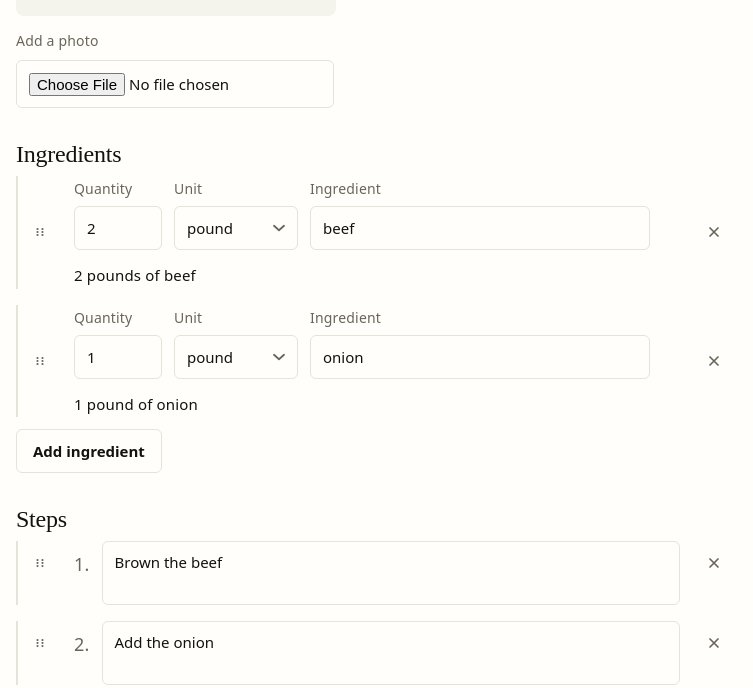
Test: RecipeForm rows › offers no way to empty the list
The image size is (753, 688).
(page scrolled)
Click the button named "Remove onion": coordinates (714, 361) [692,339,736,383]
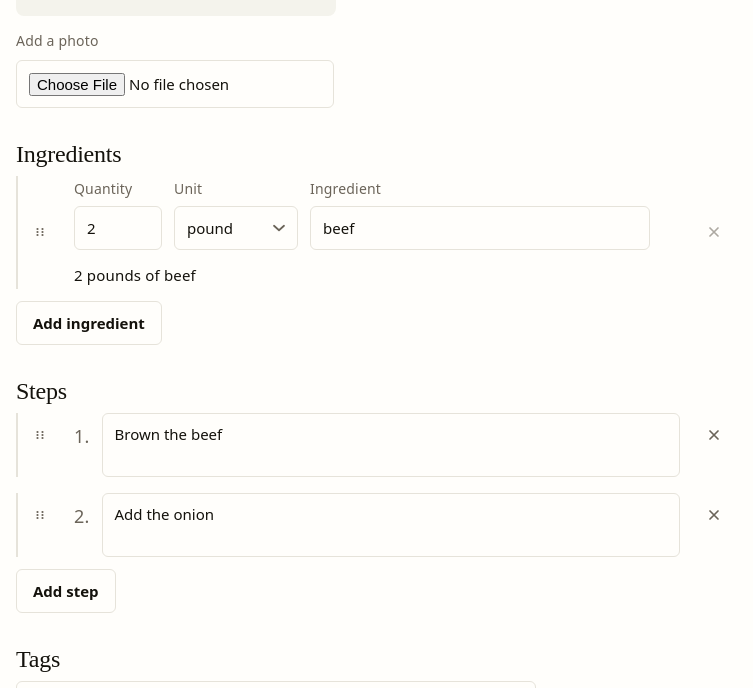
Result: the button named "Remove beef" is disabled at [692,210,736,254]
